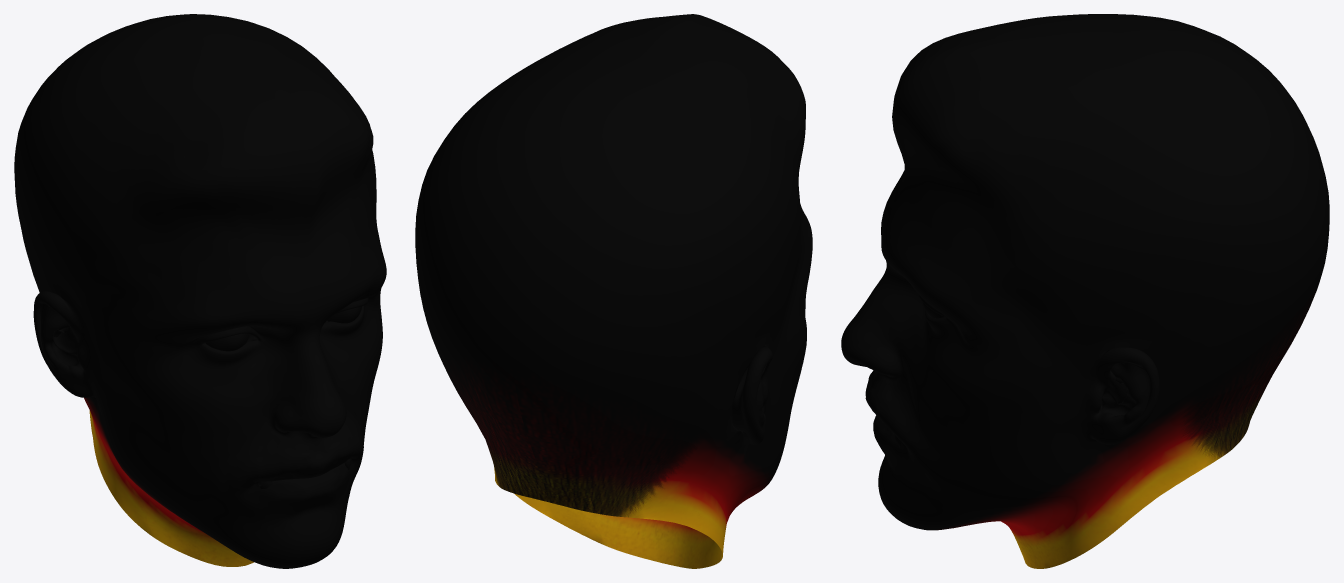
The model's file is MEL_41.glb.
The picture shows the model from 3 angles, left to right: view 1: azimuth 30°, elevation 25°; view 2: azimuth 150°, elevation 25°; view 3: azimuth 270°, elevation 25°; orthographic projection. The views are drawn at different scales.
Parts seen in each view (by area): view 1: MEL_41; view 2: MEL_41; view 3: MEL_41.
Part boxes in pixels (<box>): MEL_41: <box>14,14,386,568</box>; MEL_41: <box>415,14,812,568</box>; MEL_41: <box>841,14,1329,568</box>.
Bounding box in the file's own units: 0.192 × 0.3003 × 0.2541.
Materials: 1 (1 with a texture image).
